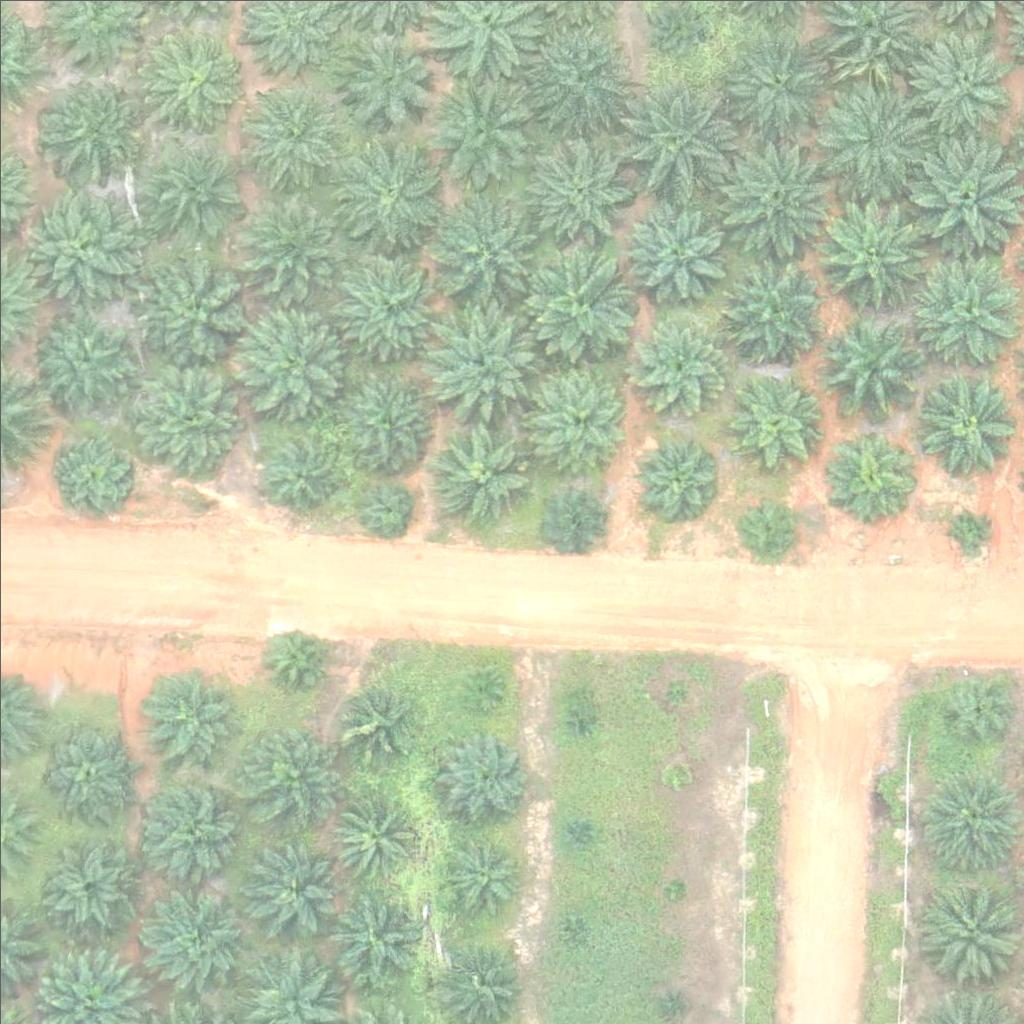Kelapa_Sawit: (813, 72, 938, 198), (717, 130, 842, 256), (612, 71, 737, 197), (511, 240, 636, 366), (515, 11, 640, 137), (428, 191, 553, 317), (323, 129, 448, 255), (123, 356, 248, 482), (135, 245, 260, 371), (15, 181, 140, 307), (327, 238, 452, 363), (815, 193, 928, 307), (715, 252, 828, 366), (723, 26, 836, 139), (426, 304, 539, 417), (425, 72, 538, 185), (330, 16, 443, 129), (427, 719, 539, 832), (910, 259, 1022, 372), (907, 23, 1019, 136), (616, 192, 728, 305), (525, 135, 637, 248), (238, 301, 350, 414), (237, 189, 349, 302), (325, 889, 425, 990), (238, 722, 338, 823), (144, 777, 244, 878), (139, 667, 239, 768), (632, 311, 732, 412), (528, 370, 628, 471), (428, 422, 528, 523), (339, 368, 439, 469), (140, 134, 240, 235), (139, 33, 239, 134), (32, 78, 132, 179), (144, 886, 244, 986), (33, 719, 133, 819), (923, 883, 1023, 983), (918, 769, 1018, 869), (915, 377, 1015, 477), (820, 319, 920, 419), (34, 310, 134, 410), (433, 832, 521, 921), (48, 839, 136, 927), (327, 789, 415, 877), (729, 379, 817, 467), (630, 430, 718, 518), (249, 91, 337, 179), (248, 837, 335, 925), (824, 425, 911, 513), (937, 671, 1012, 747), (52, 437, 127, 513), (333, 684, 408, 759), (261, 435, 336, 510), (266, 623, 329, 686), (543, 485, 606, 548), (734, 492, 796, 555), (361, 481, 411, 531), (461, 672, 499, 710), (947, 509, 984, 547), (564, 909, 589, 934), (658, 992, 683, 1017), (662, 874, 687, 899), (666, 762, 691, 787), (663, 678, 688, 703), (563, 820, 588, 845), (570, 710, 595, 735)
